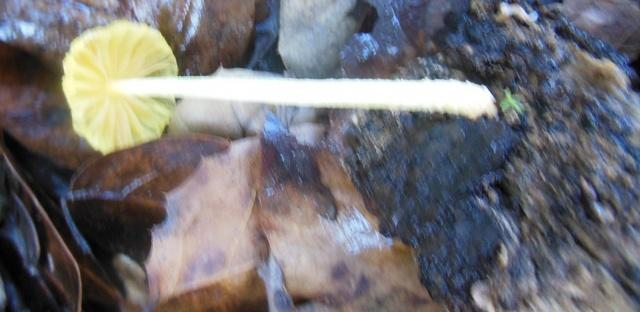Edible Mushroom: (52, 11, 261, 157)
